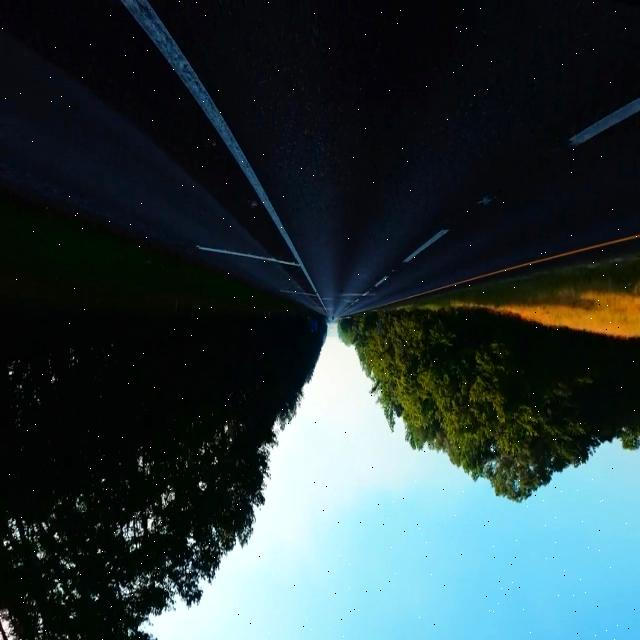road: (153, 3, 640, 316), (0, 4, 292, 260)
